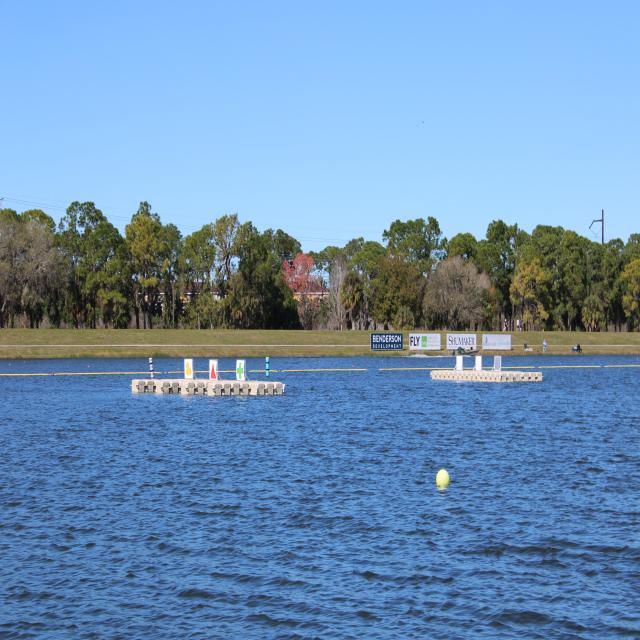blue-cross: (237, 360, 245, 385)
red-dot: (209, 355, 219, 382)
yellow-buoy: (436, 472, 449, 492)
yellow-duck: (184, 358, 193, 382)
